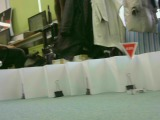stop: (120, 41, 139, 61)
